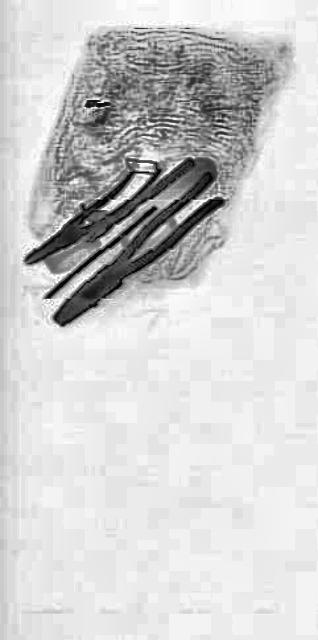Pliers: (49, 159, 223, 339), (20, 127, 194, 280)
